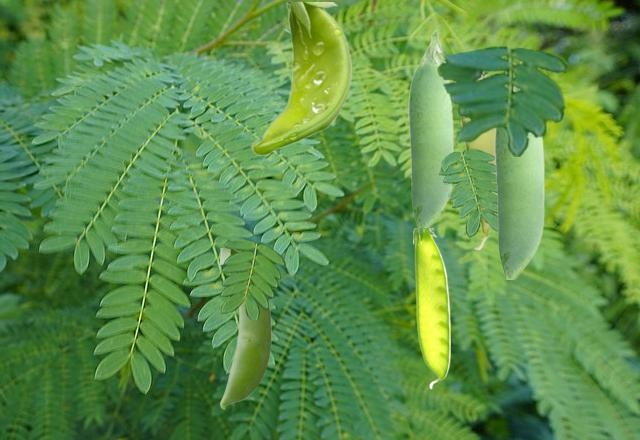pea: (250, 2, 350, 154), (494, 87, 543, 278), (408, 29, 452, 227), (220, 248, 270, 408), (413, 228, 449, 388), (462, 75, 493, 249)
